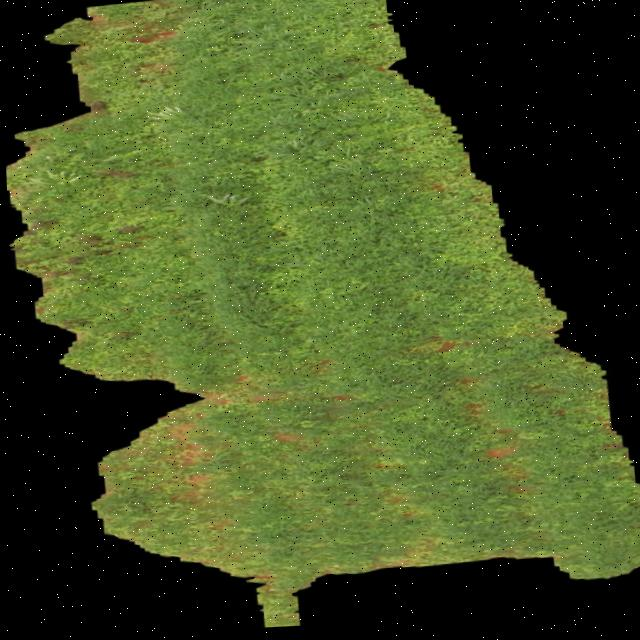Weed: (5, 0, 640, 630)
